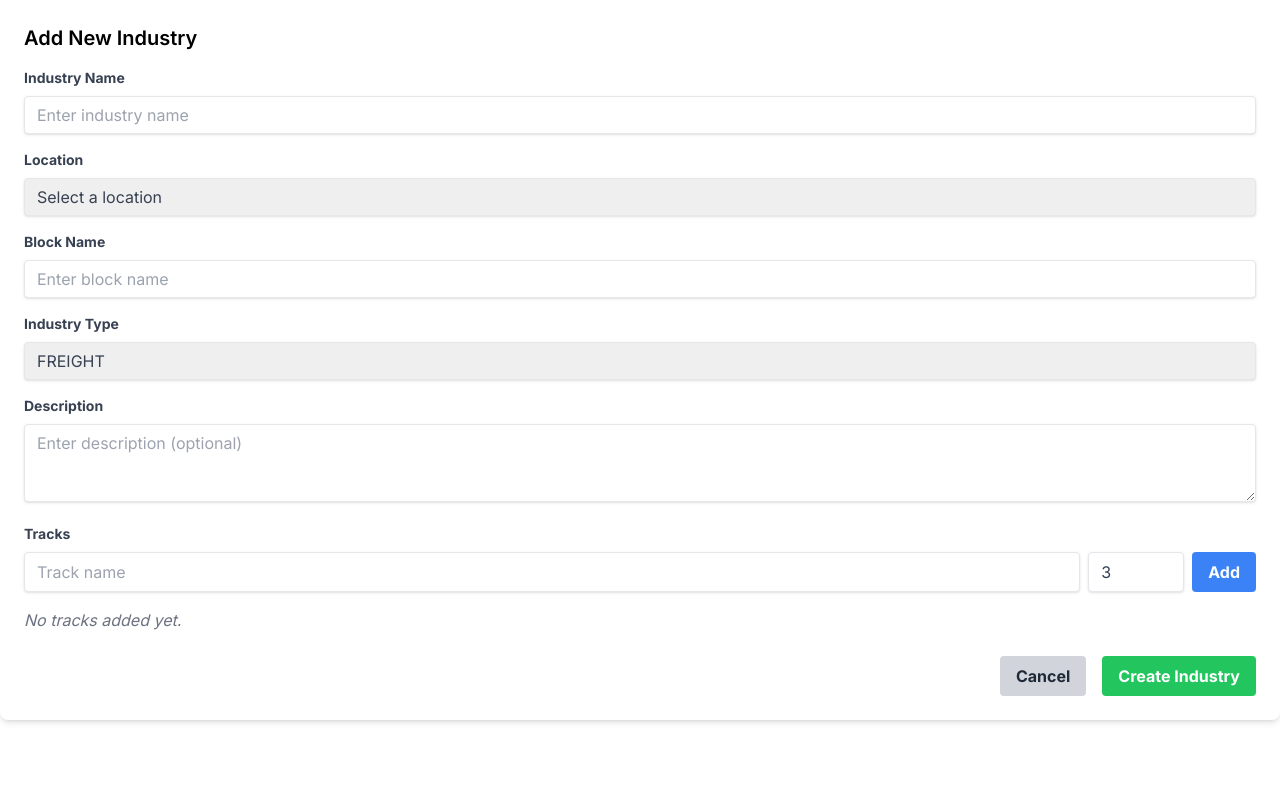
Scenario: AddIndustryForm › should validate track name when adding a track
Expected: the field labelled "Industry Name" is shown, [24,96,1256,134]
Note: Try to add a track without a name
Replace the text in the number field with placeholder "Capacity" with "5" at (1136, 572), box [1088,552,1184,592]
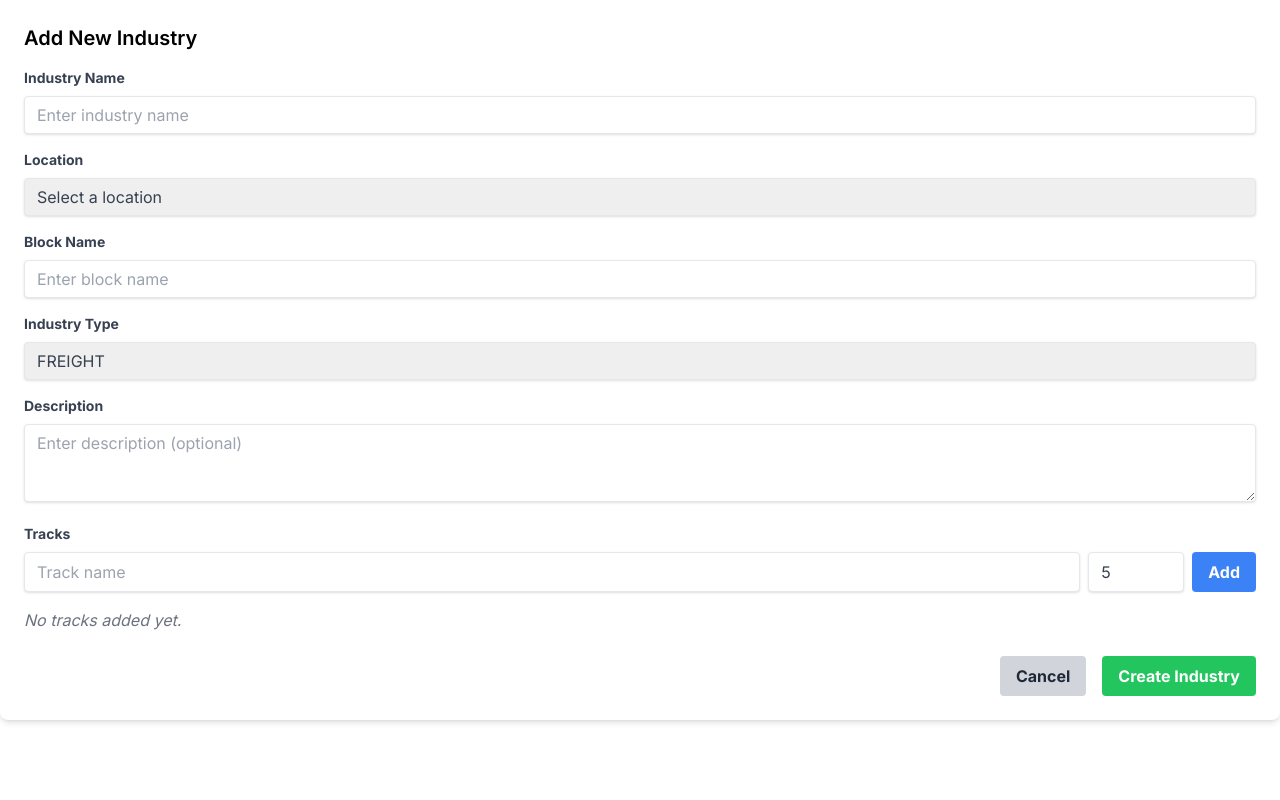
Click the button "Add" at (1224, 572), box [1192,552,1256,592]
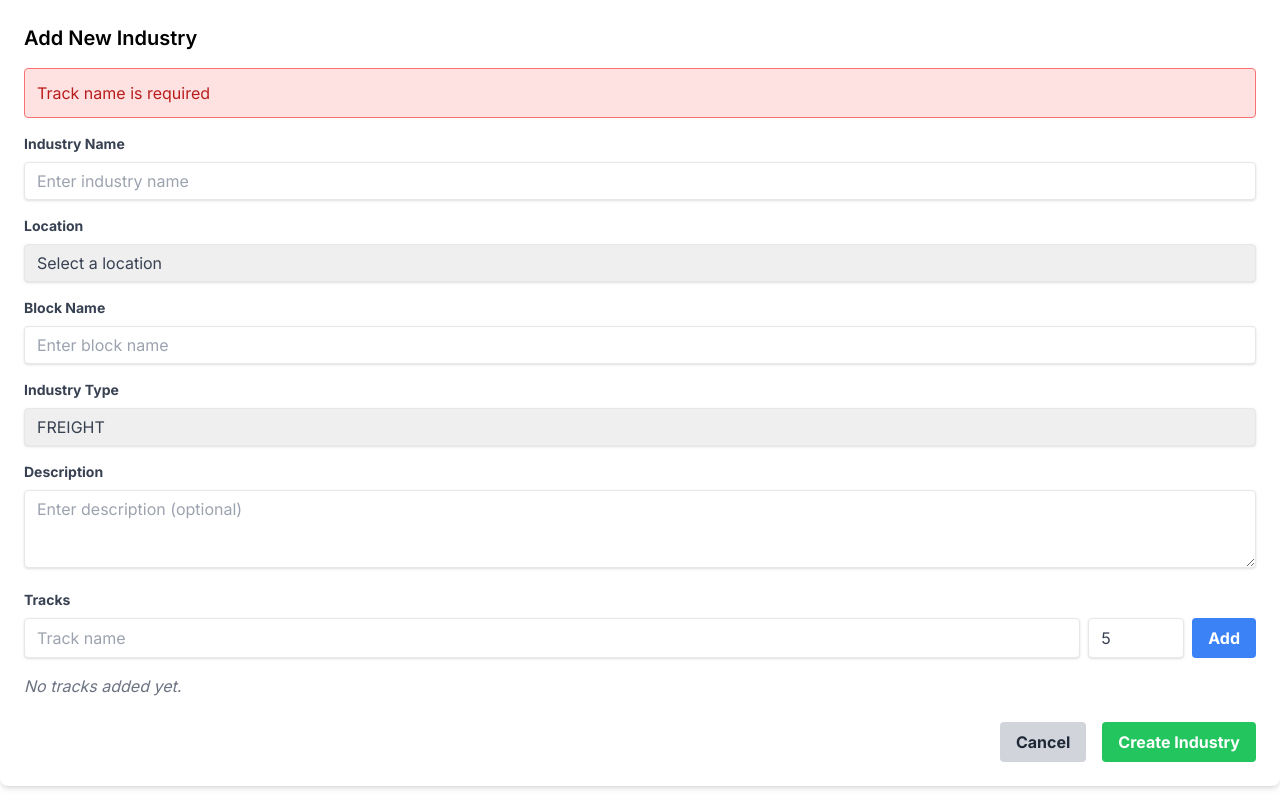
Result: the text "Track name is required" is shown at [24,68,1256,118]
